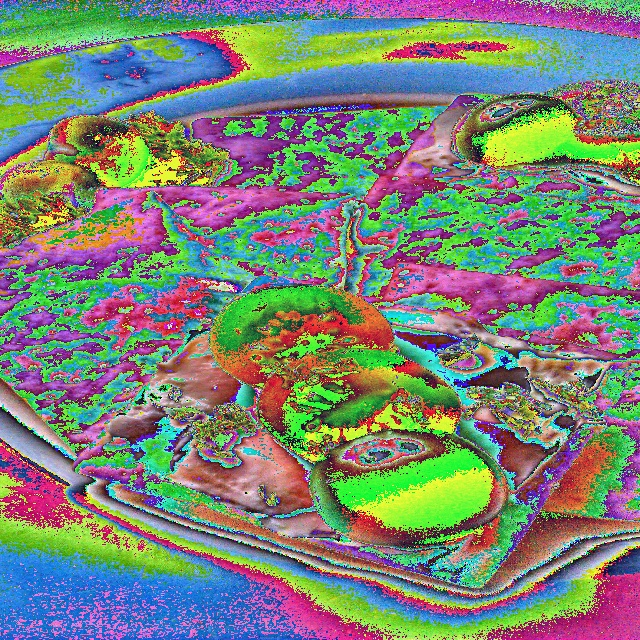background: (0, 86, 640, 594)
